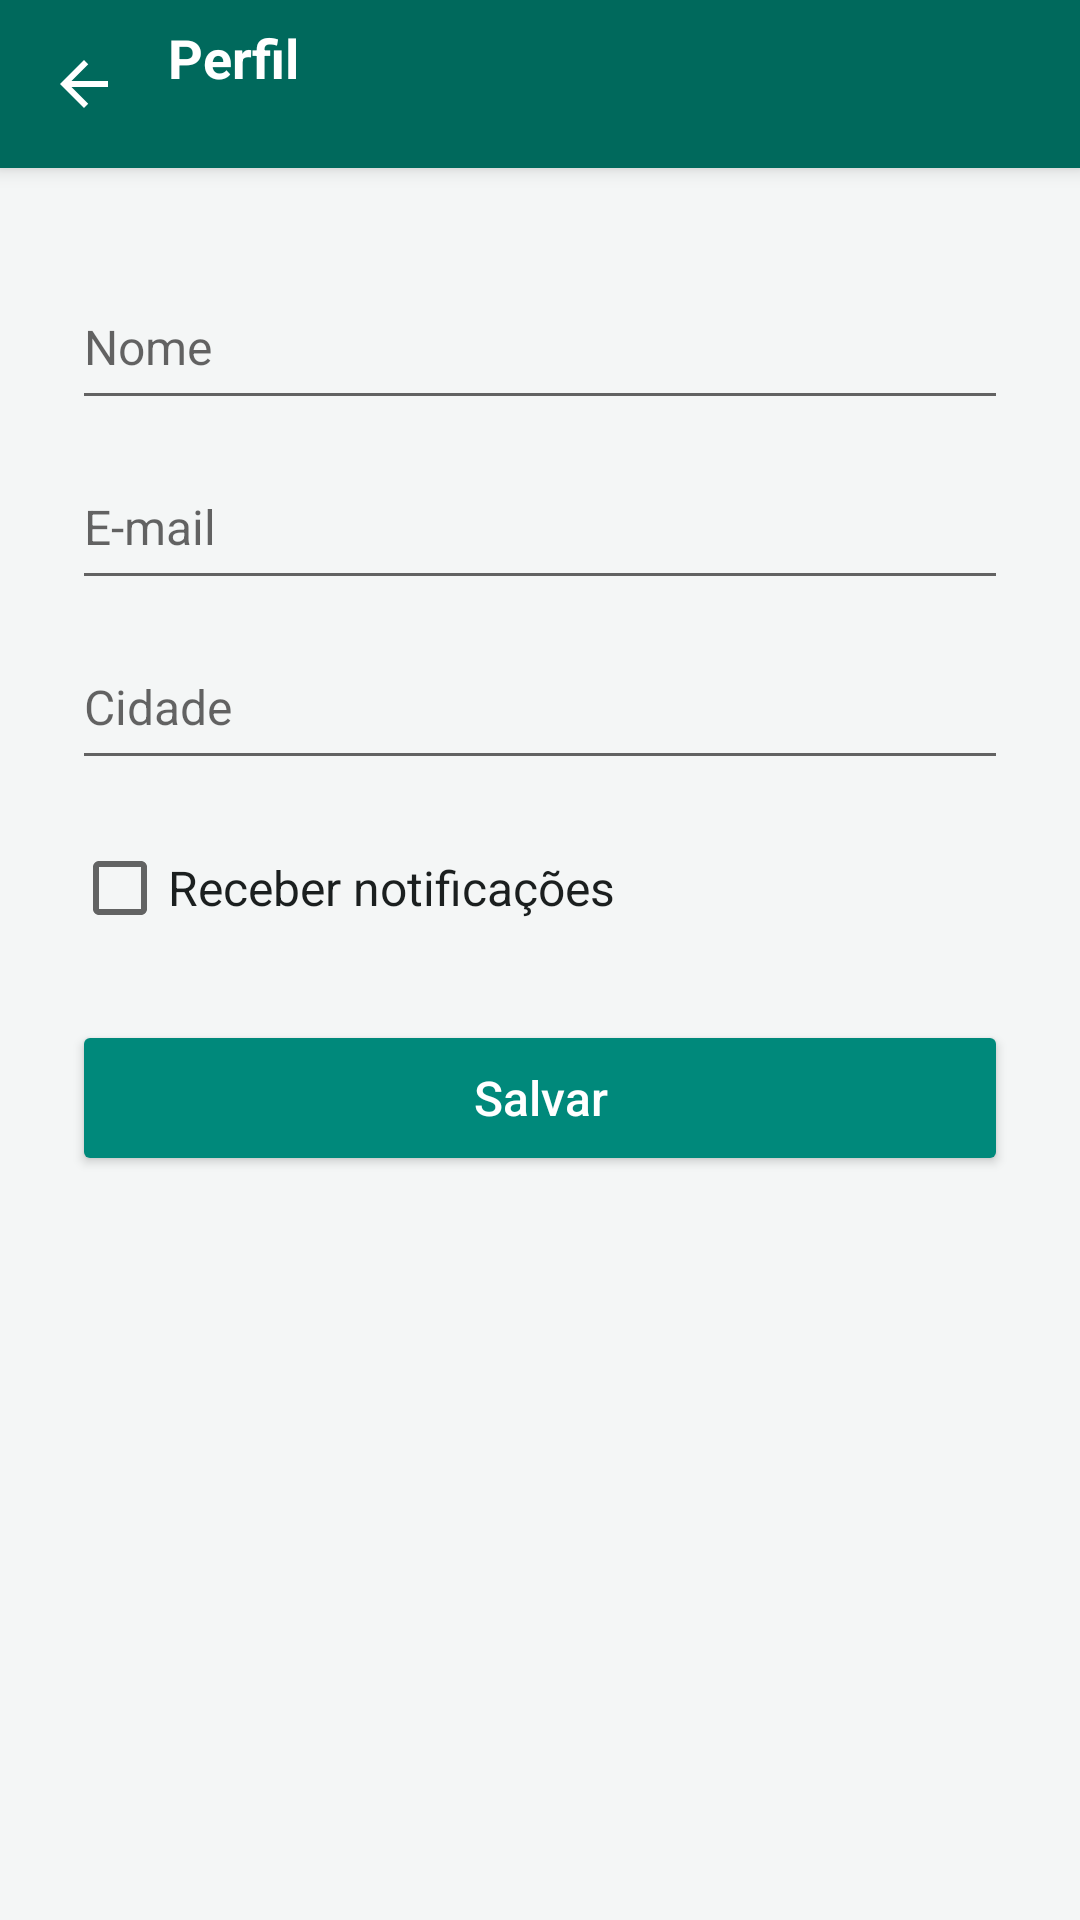

Named icons in this screenshot (1080×1920) and their bounding boxes, (x1, y1, x2, y2):
Voltar: (60, 60, 108, 108)
